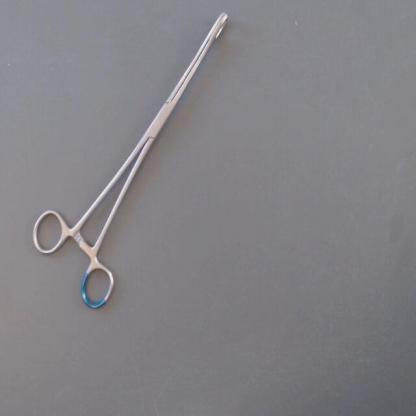Sponge Forceps: (22, 3, 239, 322)
